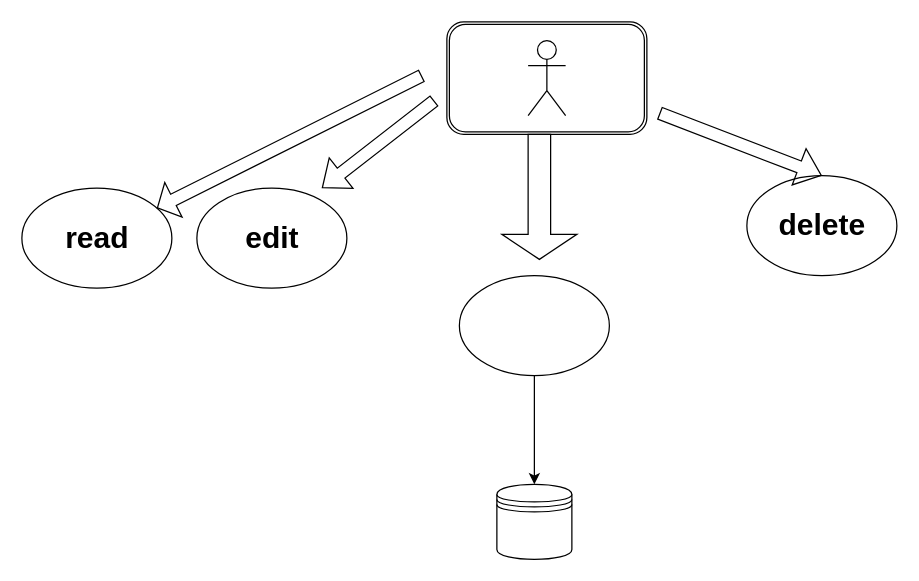
The diagram is 919 pixels wide and 581 high, and some of its shapes have lost their labels. Each missing label, with the box of its shape:
Actor: (527, 39, 566, 116)
update: (458, 274, 609, 376)
